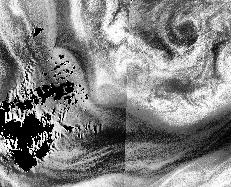CE: (159, 9, 210, 57)
